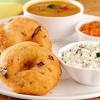chutney: (65, 44, 100, 70)
